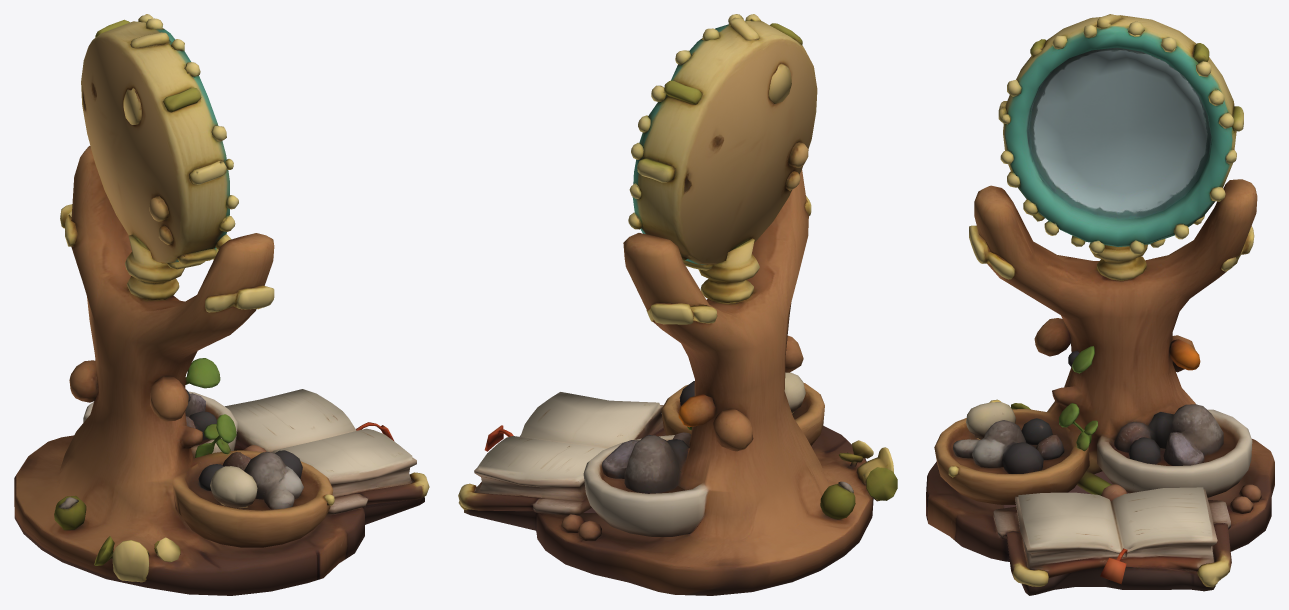
Rendered from ending-witness.glb.
3 renders of one model, left to right at view 1: azimuth 30°, elevation 25°; view 2: azimuth 150°, elevation 25°; view 3: azimuth 270°, elevation 25°, orthographic. The views are drawn at different scales.
Visible parts, largest first — view 1: tripo_node_b1671439-e3e2-4855-8f9a-55d75942afe0; view 2: tripo_node_b1671439-e3e2-4855-8f9a-55d75942afe0; view 3: tripo_node_b1671439-e3e2-4855-8f9a-55d75942afe0.
Part boxes in pixels (x1,y1,x2,y2): tripo_node_b1671439-e3e2-4855-8f9a-55d75942afe0: (14,14,429,595); tripo_node_b1671439-e3e2-4855-8f9a-55d75942afe0: (458,14,897,595); tripo_node_b1671439-e3e2-4855-8f9a-55d75942afe0: (926,14,1274,595).
Size of the model in its own units: 0.7441 by 0.998 by 0.666.
1 material, 1 textured.
